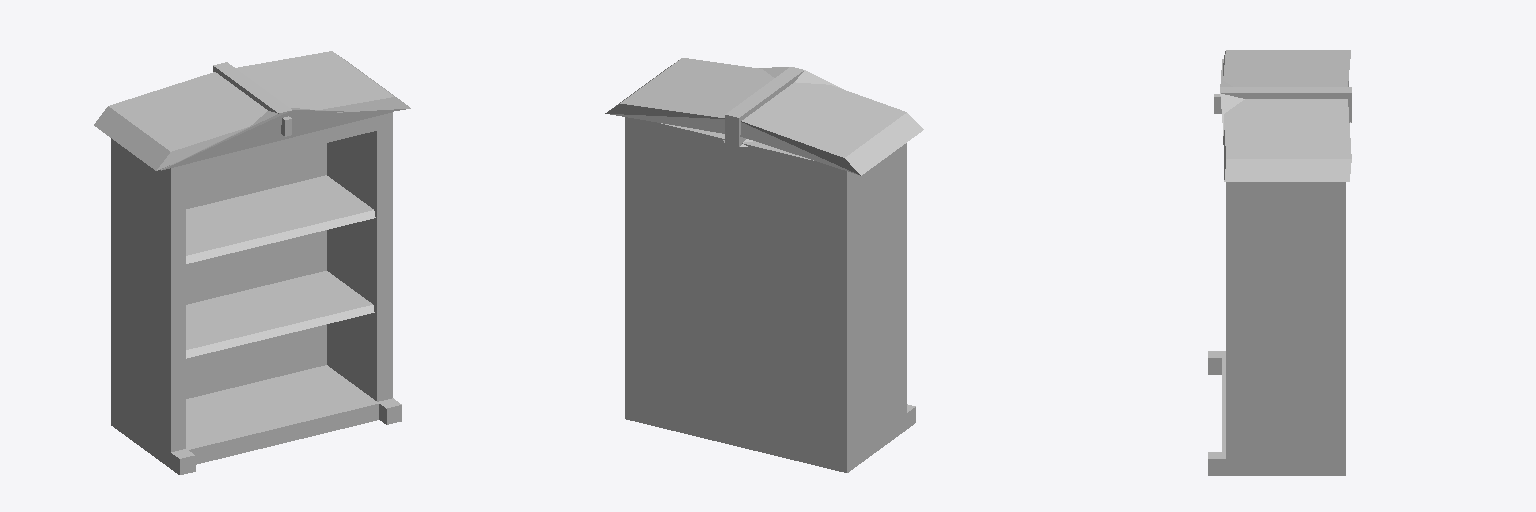
File: Bookshelf.obj
The picture shows the model from 3 angles: view 1: azimuth 30°, elevation 25°; view 2: azimuth 150°, elevation 25°; view 3: azimuth 270°, elevation 25°; orthographic projection.
Bounding box in the file's own units: 1.46 × 1.81 × 0.71.